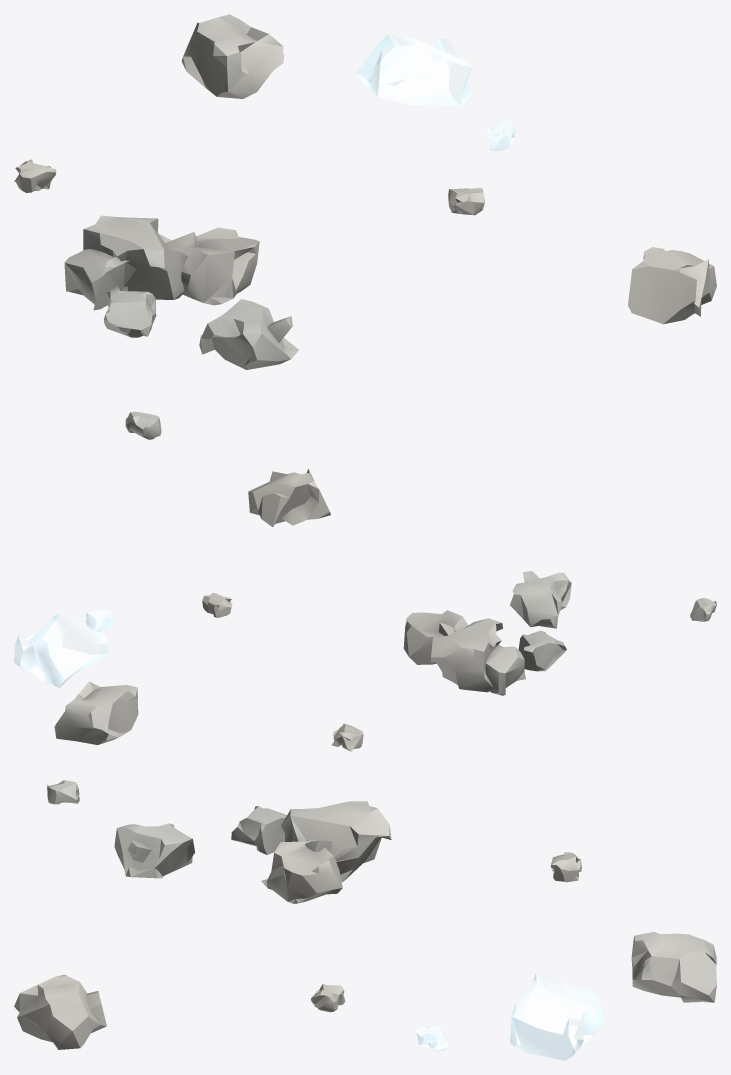
File: frost_gc_crumbs_b.glb
The picture shows the model from 3 angles, top to bottom: view 1: azimuth 30°, elevation 25°; view 2: azimuth 150°, elevation 25°; view 3: azimuth 270°, elevation 25°; orthographic projection. The views are drawn at different scales.
Parts seen in each view (by area): view 1: frost_gc_crumbs_b; view 2: frost_gc_crumbs_b; view 3: frost_gc_crumbs_b.
Boxes of the visible parts, x1,y1,x2,y2 form: frost_gc_crumbs_b: (14,14,716,439); frost_gc_crumbs_b: (14,468,716,751); frost_gc_crumbs_b: (14,780,716,1060).
Bounding box in the file's own units: 3.83 × 0.3751 × 4.29.
